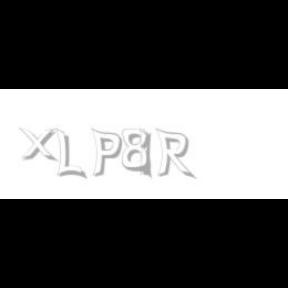8: (122, 128, 150, 172)
I: (140, 128, 152, 180)
L: (56, 128, 84, 180)
P: (90, 128, 122, 178)
R: (155, 128, 193, 180)
x: (19, 128, 61, 162)
